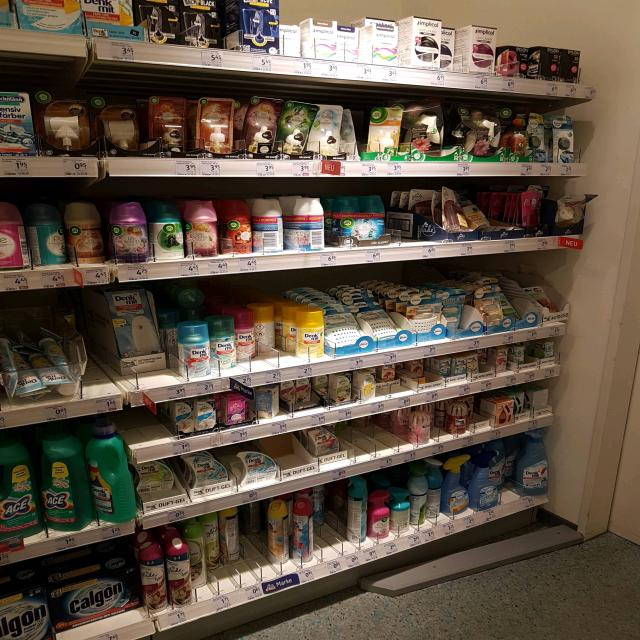empty: (346, 408, 410, 477), (83, 297, 118, 407), (240, 501, 282, 590), (134, 400, 173, 462), (274, 435, 318, 486)
